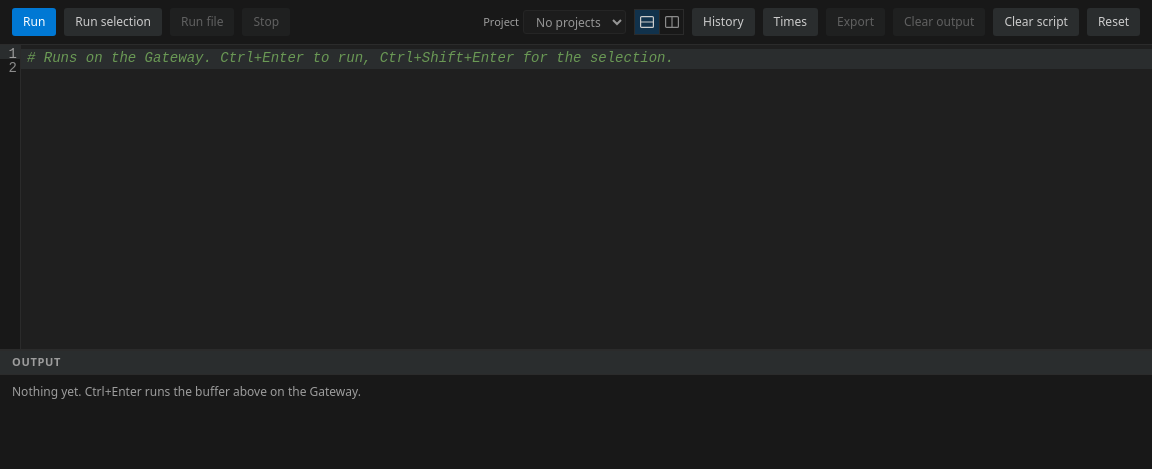
Test case: ScriptConsole › folds a run away from its header, and back
Step 1. Click the button "Run" → (34, 22), box [12, 8, 56, 36]
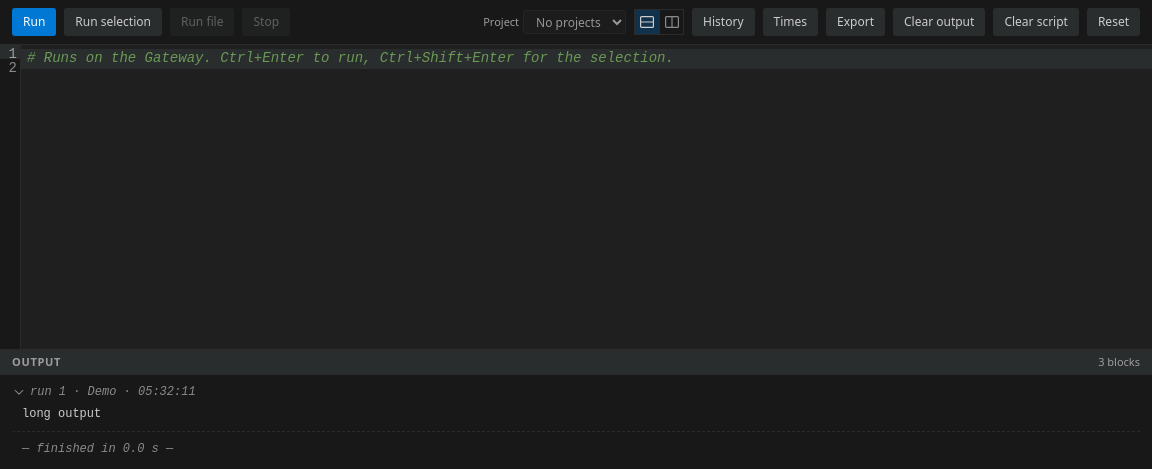
Step 2. Click the button "run 1 · Demo · 05:32:11" → (113, 392), box [12, 383, 1140, 401]
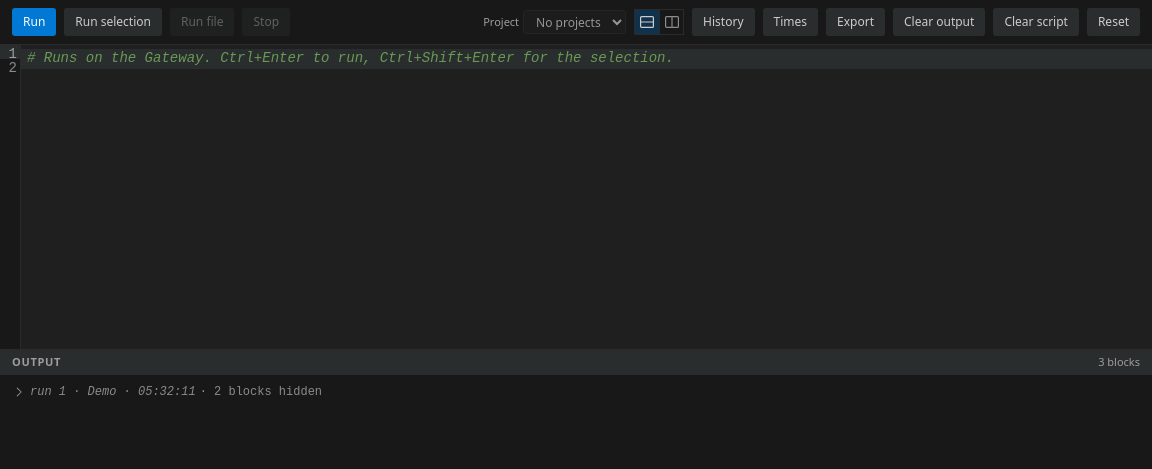
Expected: the button "run 1 · Demo · 05:32:11 · 2 blocks hidden" is collapsed
Expected: the button "run 1 · Demo · 05:32:11 · 2 blocks hidden" is shown
Step 3. Click the button "run 1 · Demo · 05:32:11 · 2 blocks hidden" → (113, 392), box [12, 383, 1140, 401]
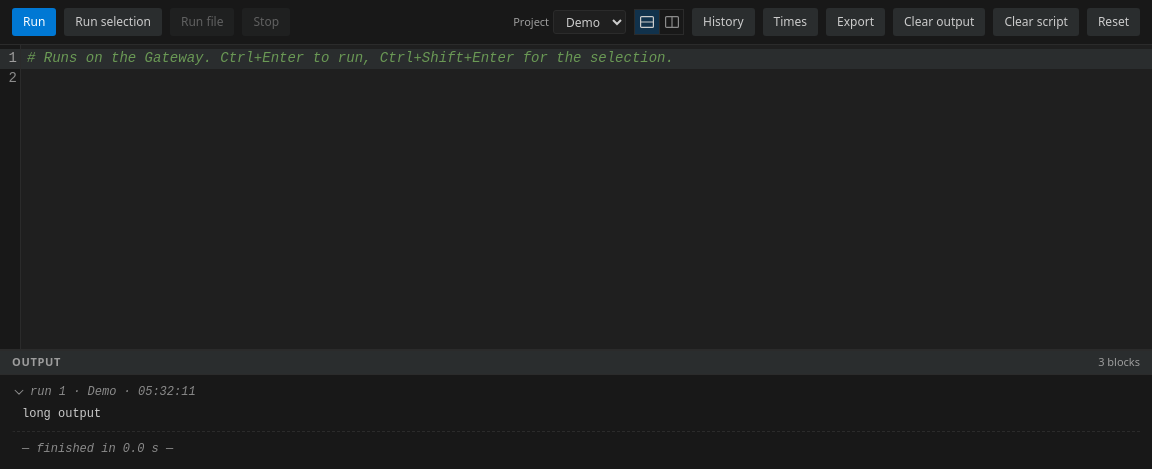
Expected: the button "run 1 · Demo · 05:32:11" is expanded, [12, 383, 1140, 401]
